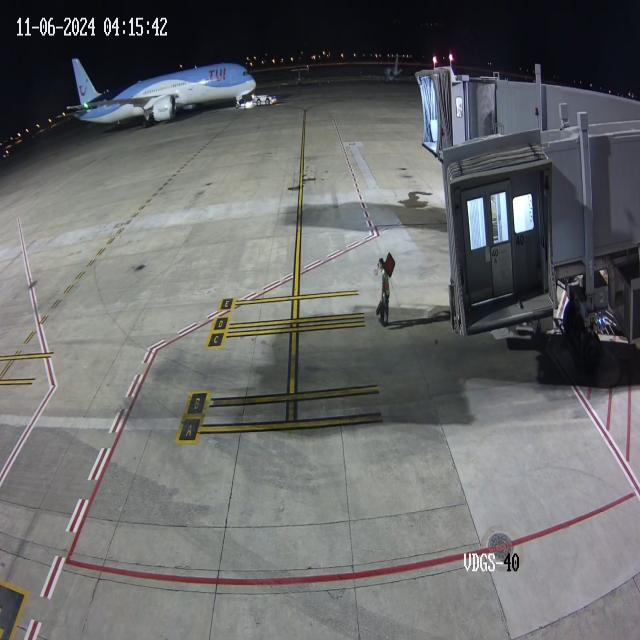bridge: (444, 38, 507, 158)
plane: (65, 46, 258, 130)
